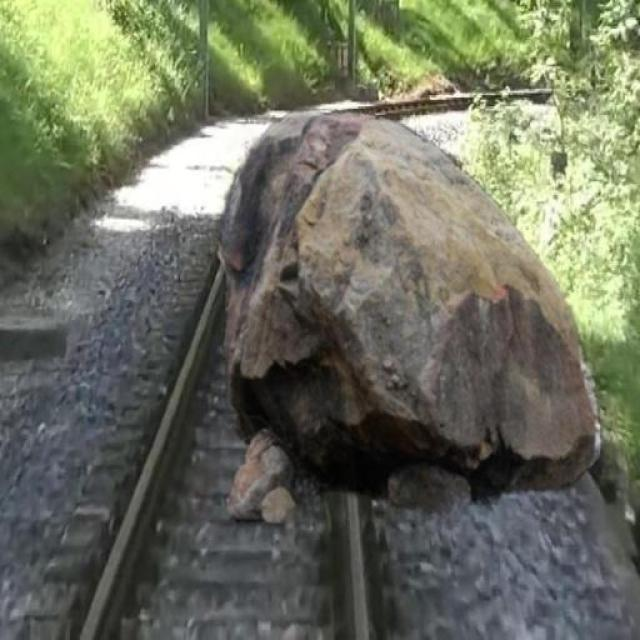Stone: (209, 102, 608, 532)
